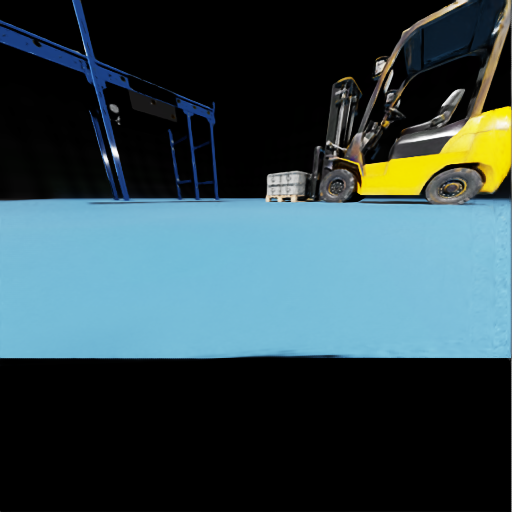transportation_area: (281, 184, 309, 194), (109, 74, 110, 76), (86, 66, 88, 67), (27, 43, 28, 44)
